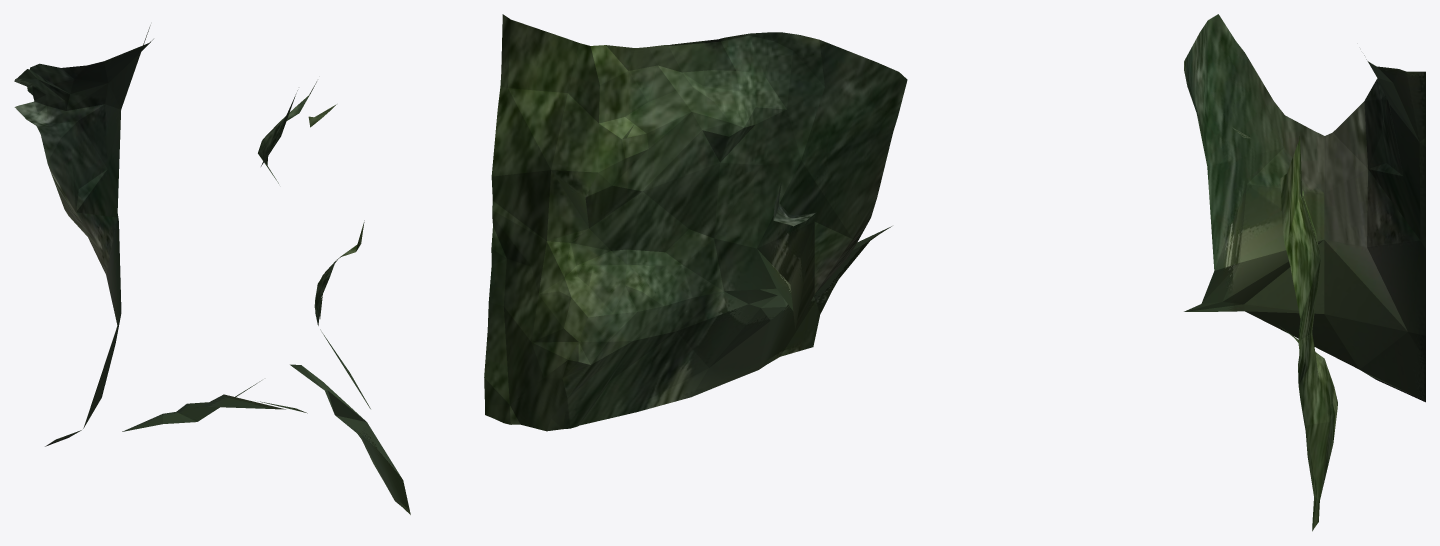
3 renders of one model, left to right at view 1: azimuth 30°, elevation 25°; view 2: azimuth 150°, elevation 25°; view 3: azimuth 270°, elevation 25°, orthographic. The views are drawn at different scales.
Bounding box in the file's own units: 5.9 × 5.9 × 5.9.
Materials: 4 (4 with a texture image).
